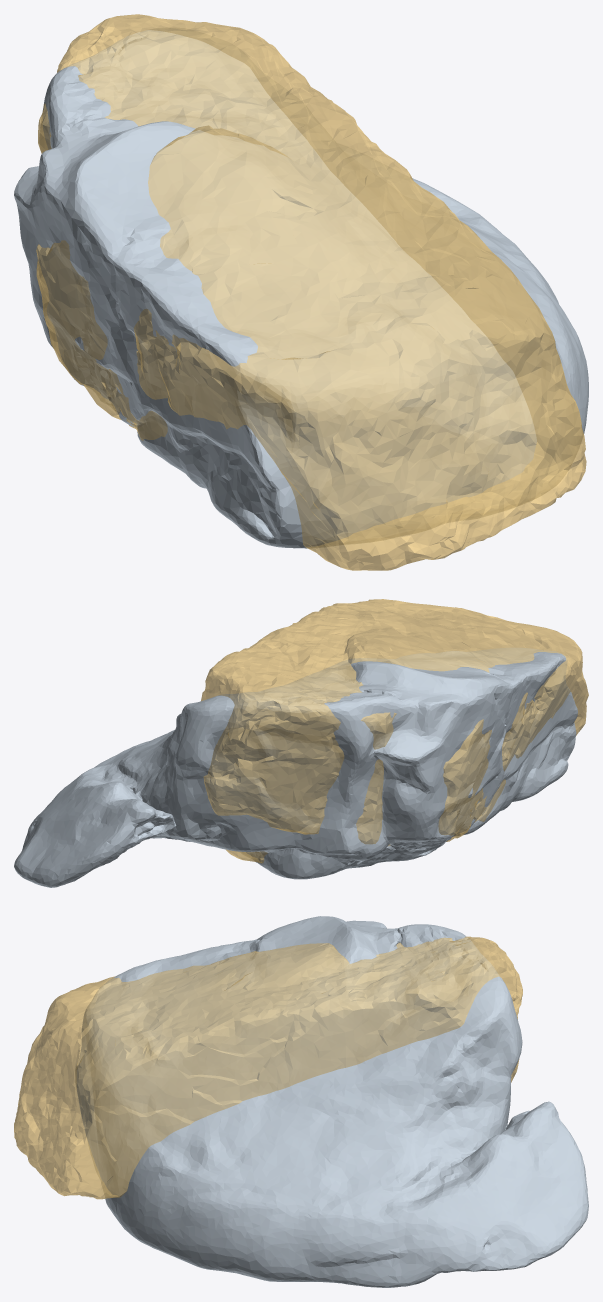
3 renders of one model, top to bottom at view 1: azimuth 30°, elevation 25°; view 2: azimuth 150°, elevation 25°; view 3: azimuth 270°, elevation 25°, orthographic. The views are drawn at different scales.
Visible parts, largest first — view 1: imagination, truth; view 2: imagination, truth; view 3: imagination, truth.
Boxes of the visible parts, box(x1,y1,x2,y2) form: imagination: box(14, 28, 588, 548); truth: box(36, 14, 586, 570); imagination: box(14, 648, 577, 887); truth: box(201, 599, 588, 863); imagination: box(76, 916, 588, 1287); truth: box(14, 936, 522, 1199).
Bounding box in the file's own units: 1.05 × 0.6443 × 1.43.
